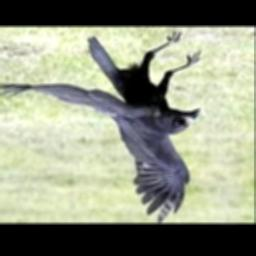Crow: (0, 32, 201, 223)
